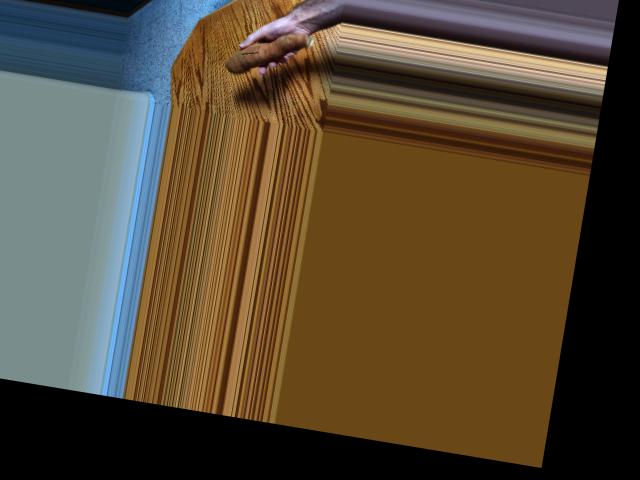sweet_potato: (221, 15, 317, 86)
